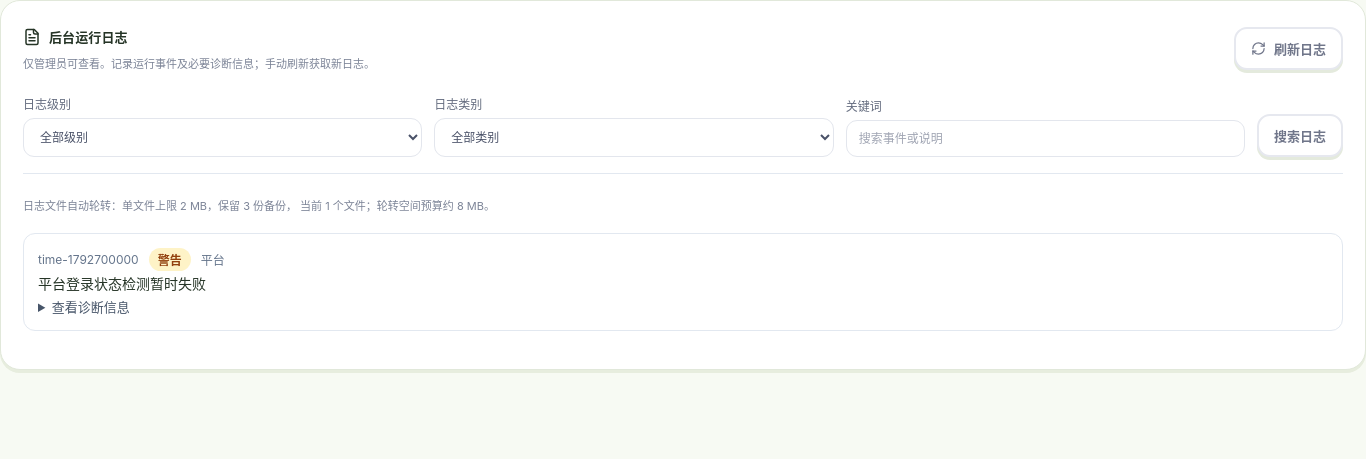
Test: keeps existing results on failed refresh and retries explicitly
The width and height of the screenshot is (1366, 459).
Step 1. Click the button "刷新日志" → click(1288, 49), box [1234,27,1343,70]
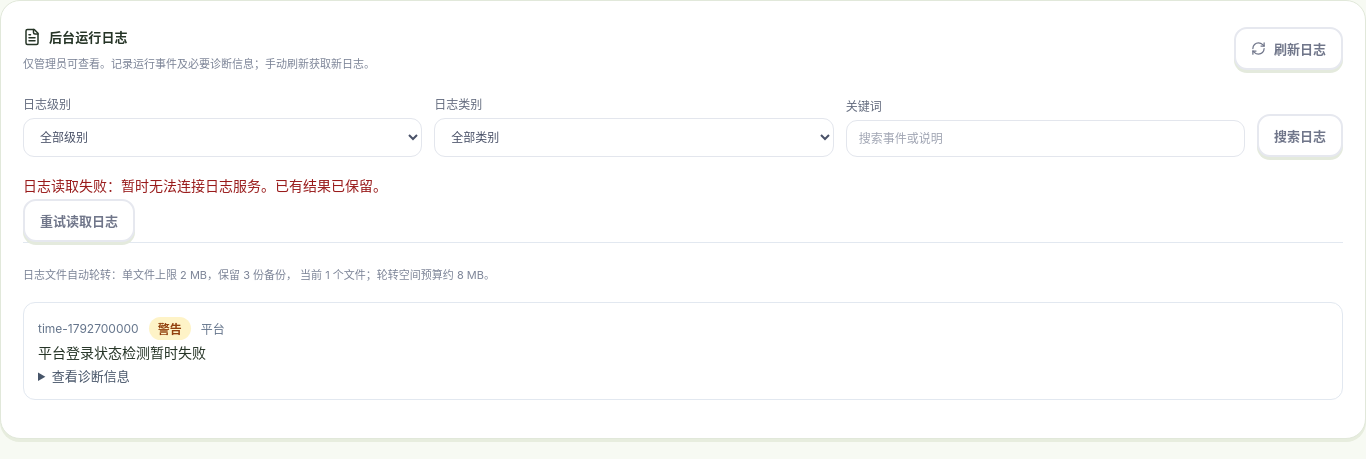
Expected: the text "平台登录状态检测暂时失败" is shown, [38,344,206,361]
Expected: the message "日志读取失败：暂时无法连接日志服务。已有结果已保留。 重试读取日志" is shown, [23,177,387,242]
Step 2. Click the button "重试读取日志" → click(79, 220), box [23,199,135,242]
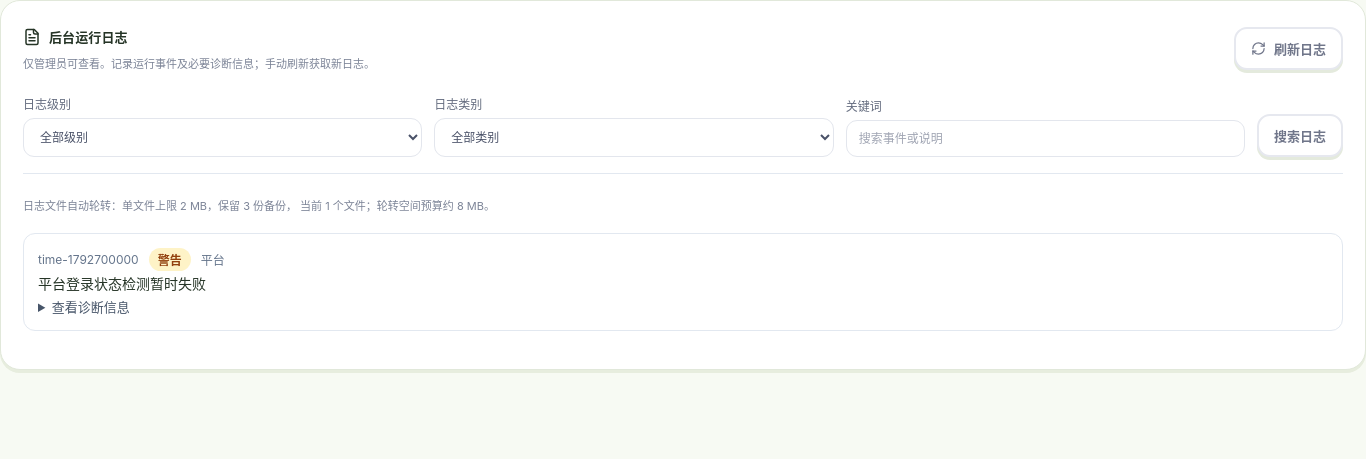
Expected: the number of elements with class "system-log-entry" is 1, [23,233,1343,331]
Expected: the message "日志读取失败：暂时无法连接日志服务。已有结果已保留。 重试读取日志" is gone
